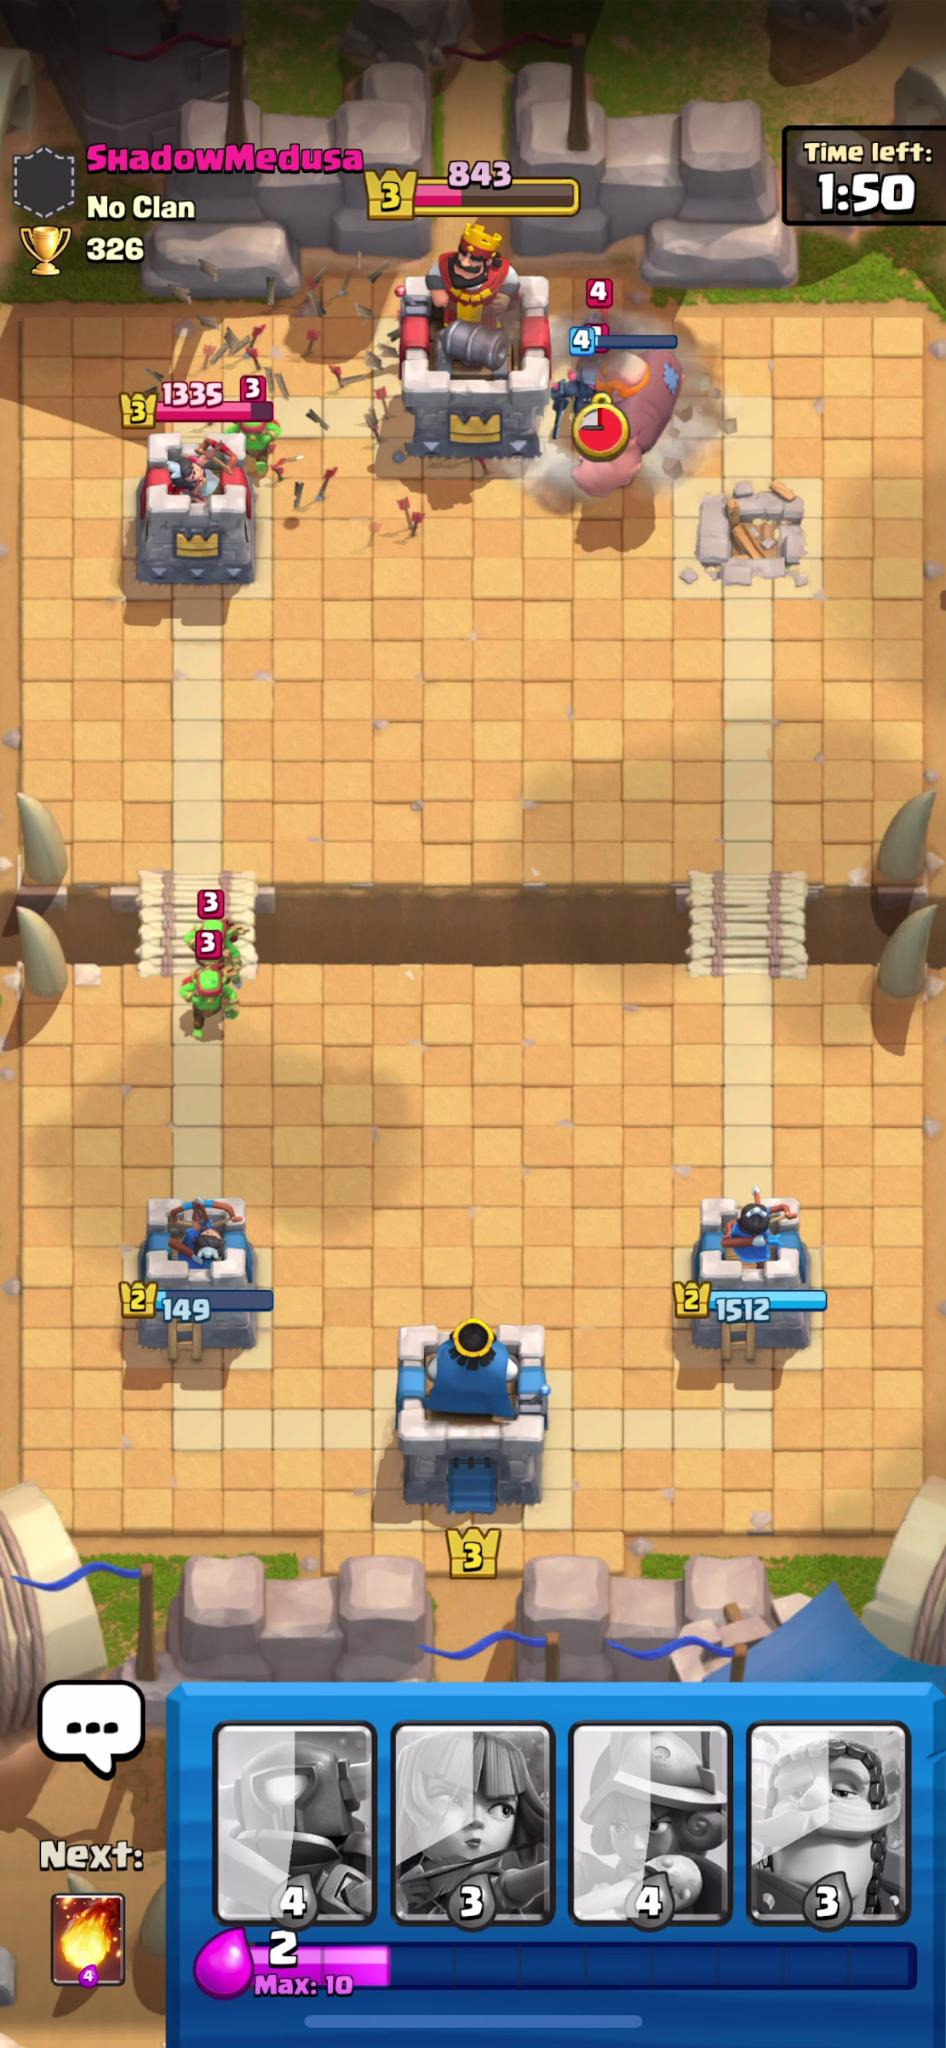geant: (562, 349, 687, 511)
gobelin_lances: (128, 883, 302, 1041), (226, 410, 294, 478)
